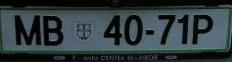-: (145, 29, 155, 36)
0: (124, 14, 143, 45)
1: (177, 14, 188, 45)
4: (103, 14, 122, 46)
7: (158, 14, 176, 45)
B: (43, 14, 65, 47)
M: (14, 13, 42, 47)
P: (191, 13, 213, 44)
